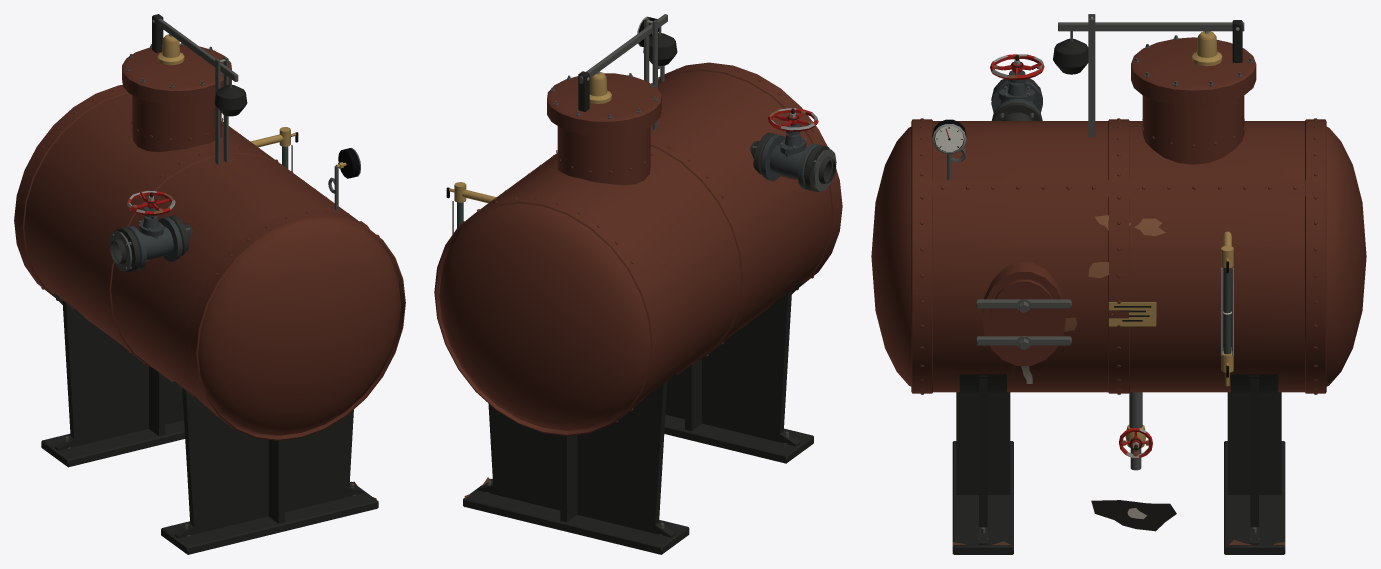
Rendered from mach_tank@1.glb.
3 views of the same model, side by side, from view 1: azimuth 30°, elevation 25°; view 2: azimuth 150°, elevation 25°; view 3: azimuth 270°, elevation 25° (orthographic). The views are drawn at different scales.
Visible parts, largest first — view 1: kessel_genietet0, kessel_genietet1, kessel_genietet2, kessel_genietet13, kessel_genietet12, kessel_genietet4, kessel_genietet6, kessel_genietet11; view 2: kessel_genietet0, kessel_genietet1, kessel_genietet2, kessel_genietet13, kessel_genietet12, kessel_genietet4, kessel_genietet11; view 3: kessel_genietet0, kessel_genietet1, kessel_genietet2, kessel_genietet4, kessel_genietet17, kessel_genietet3, kessel_genietet13, kessel_genietet11, kessel_genietet5, kessel_genietet12, kessel_genietet7, kessel_genietet9.
Boxes of the visible parts, <box> form: kessel_genietet0: <box>14,44,405,440</box>; kessel_genietet1: <box>41,14,378,554</box>; kessel_genietet2: <box>65,18,356,536</box>; kessel_genietet13: <box>124,206,182,270</box>; kessel_genietet12: <box>110,215,192,272</box>; kessel_genietet4: <box>157,34,346,168</box>; kessel_genietet6: <box>295,132,359,178</box>; kessel_genietet11: <box>127,191,173,215</box>; kessel_genietet0: <box>434,62,842,436</box>; kessel_genietet1: <box>463,33,813,554</box>; kessel_genietet2: <box>486,14,836,535</box>; kessel_genietet13: <box>760,123,820,189</box>; kessel_genietet12: <box>750,132,836,191</box>; kessel_genietet4: <box>449,32,658,203</box>; kessel_genietet11: <box>768,108,818,131</box>; kessel_genietet0: <box>871,37,1366,394</box>; kessel_genietet1: <box>952,20,1285,554</box>; kessel_genietet2: <box>947,14,1259,539</box>; kessel_genietet4: <box>1108,31,1233,447</box>; kessel_genietet17: <box>1091,500,1176,531</box>; kessel_genietet3: <box>952,55,1285,554</box>; kessel_genietet13: <box>991,70,1042,120</box>; kessel_genietet11: <box>945,54,1152,458</box>; kessel_genietet5: <box>932,16,1239,457</box>; kessel_genietet12: <box>991,78,1042,120</box>; kessel_genietet7: <box>1223,268,1231,354</box>; kessel_genietet9: <box>935,126,963,151</box>.
Bounding box in the file's own units: 1.06 × 1.58 × 1.46.
